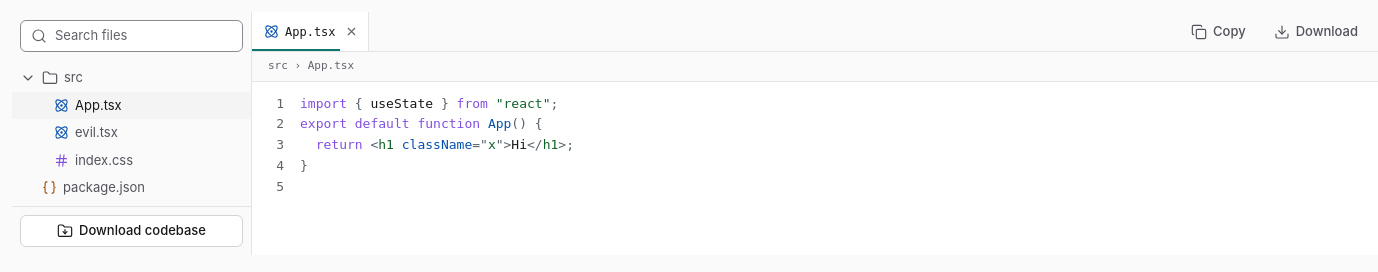
Test case: CodeWorkspace › opens tabs as files are picked and closes them back to the neighbour
Click the list item "index.css": (132, 160) [12,146,251,174]
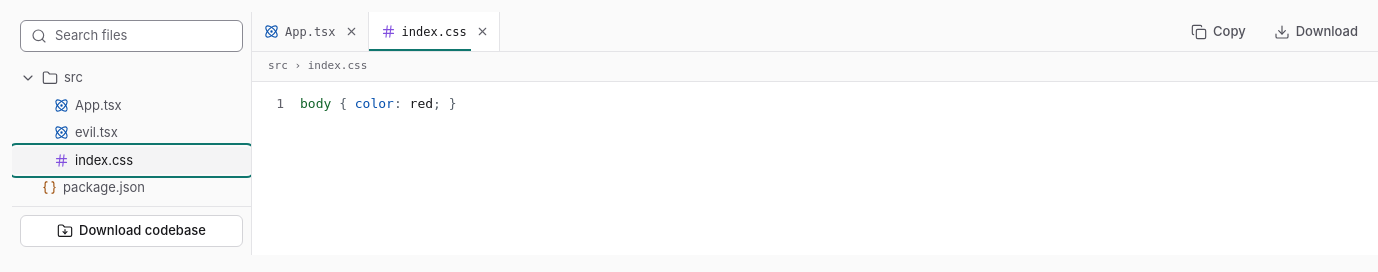
Click the button named "Close index.css": (483, 32) [471,20,495,44]
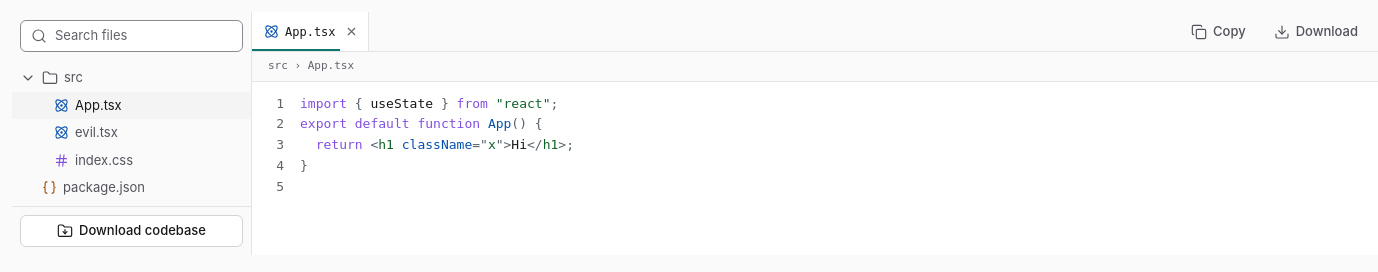
Expected: the element named "Contents of src/App.tsx" is shown, [252,82,1377,254]
